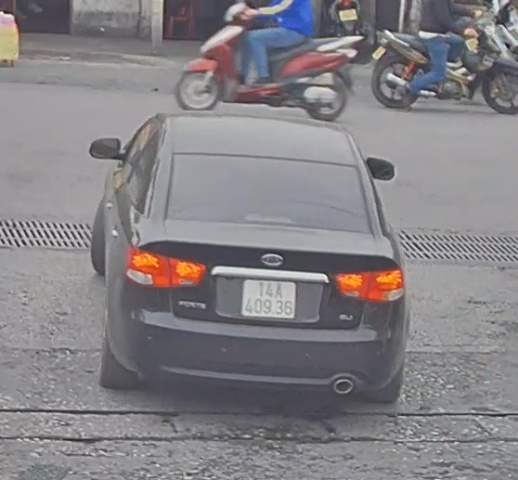vehicle plate: (240, 274, 300, 319)
